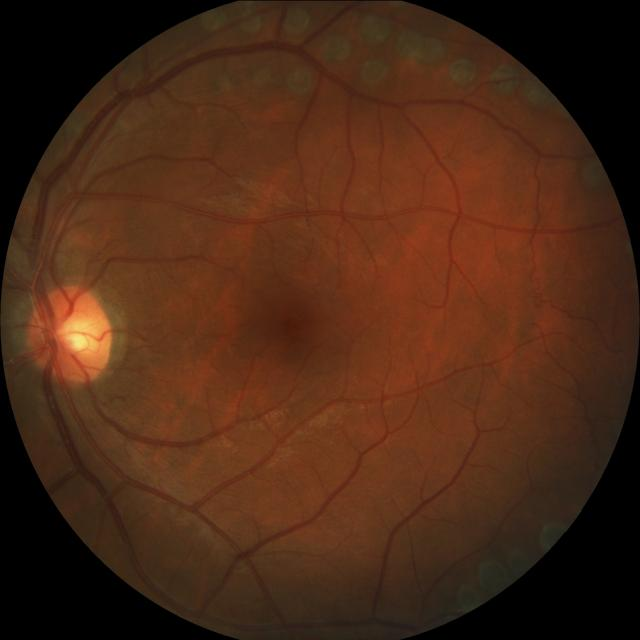OC: (52, 313, 99, 355)
OD: (25, 283, 112, 382)
